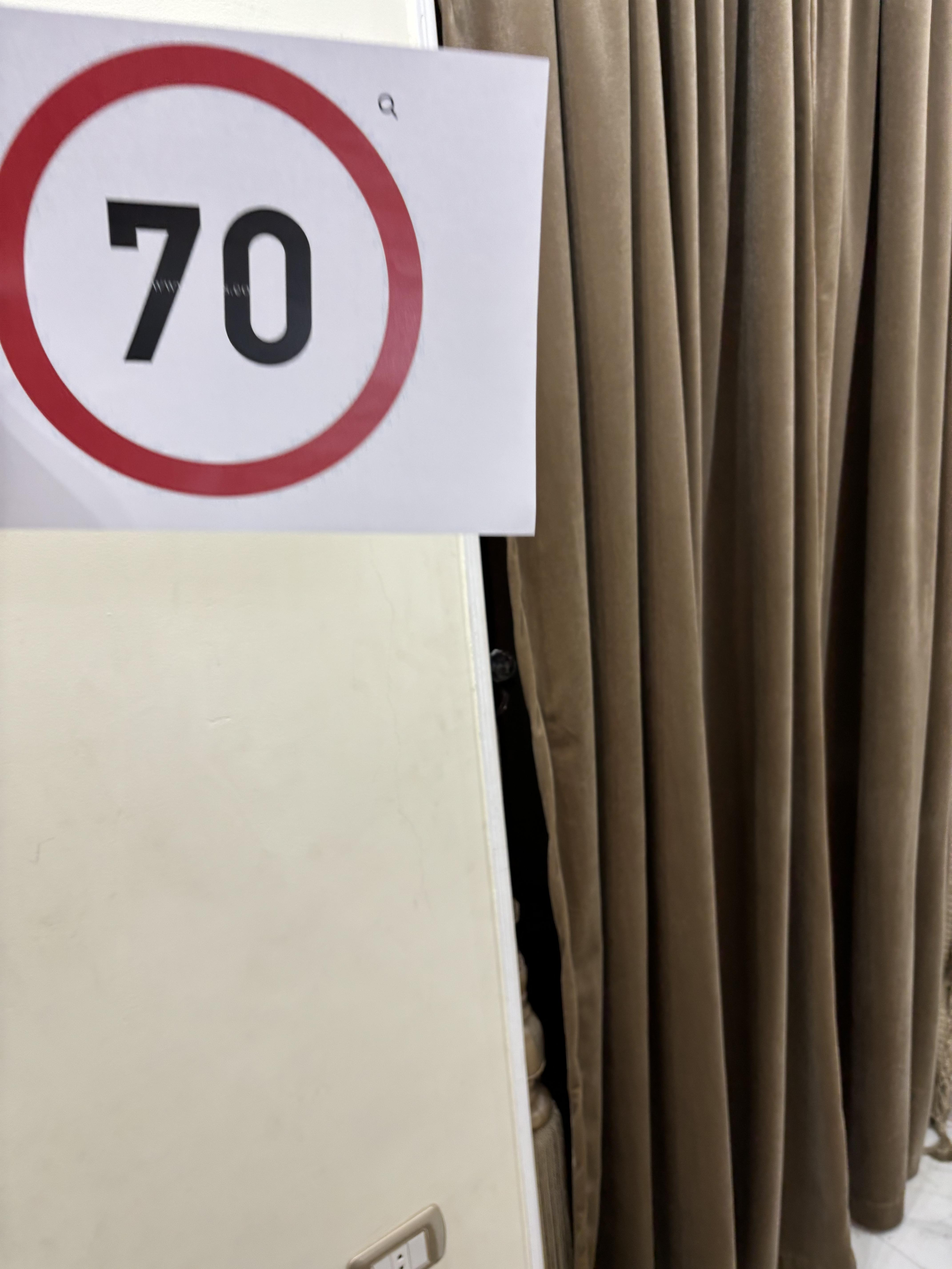70-Speed: (0, 47, 434, 502)
